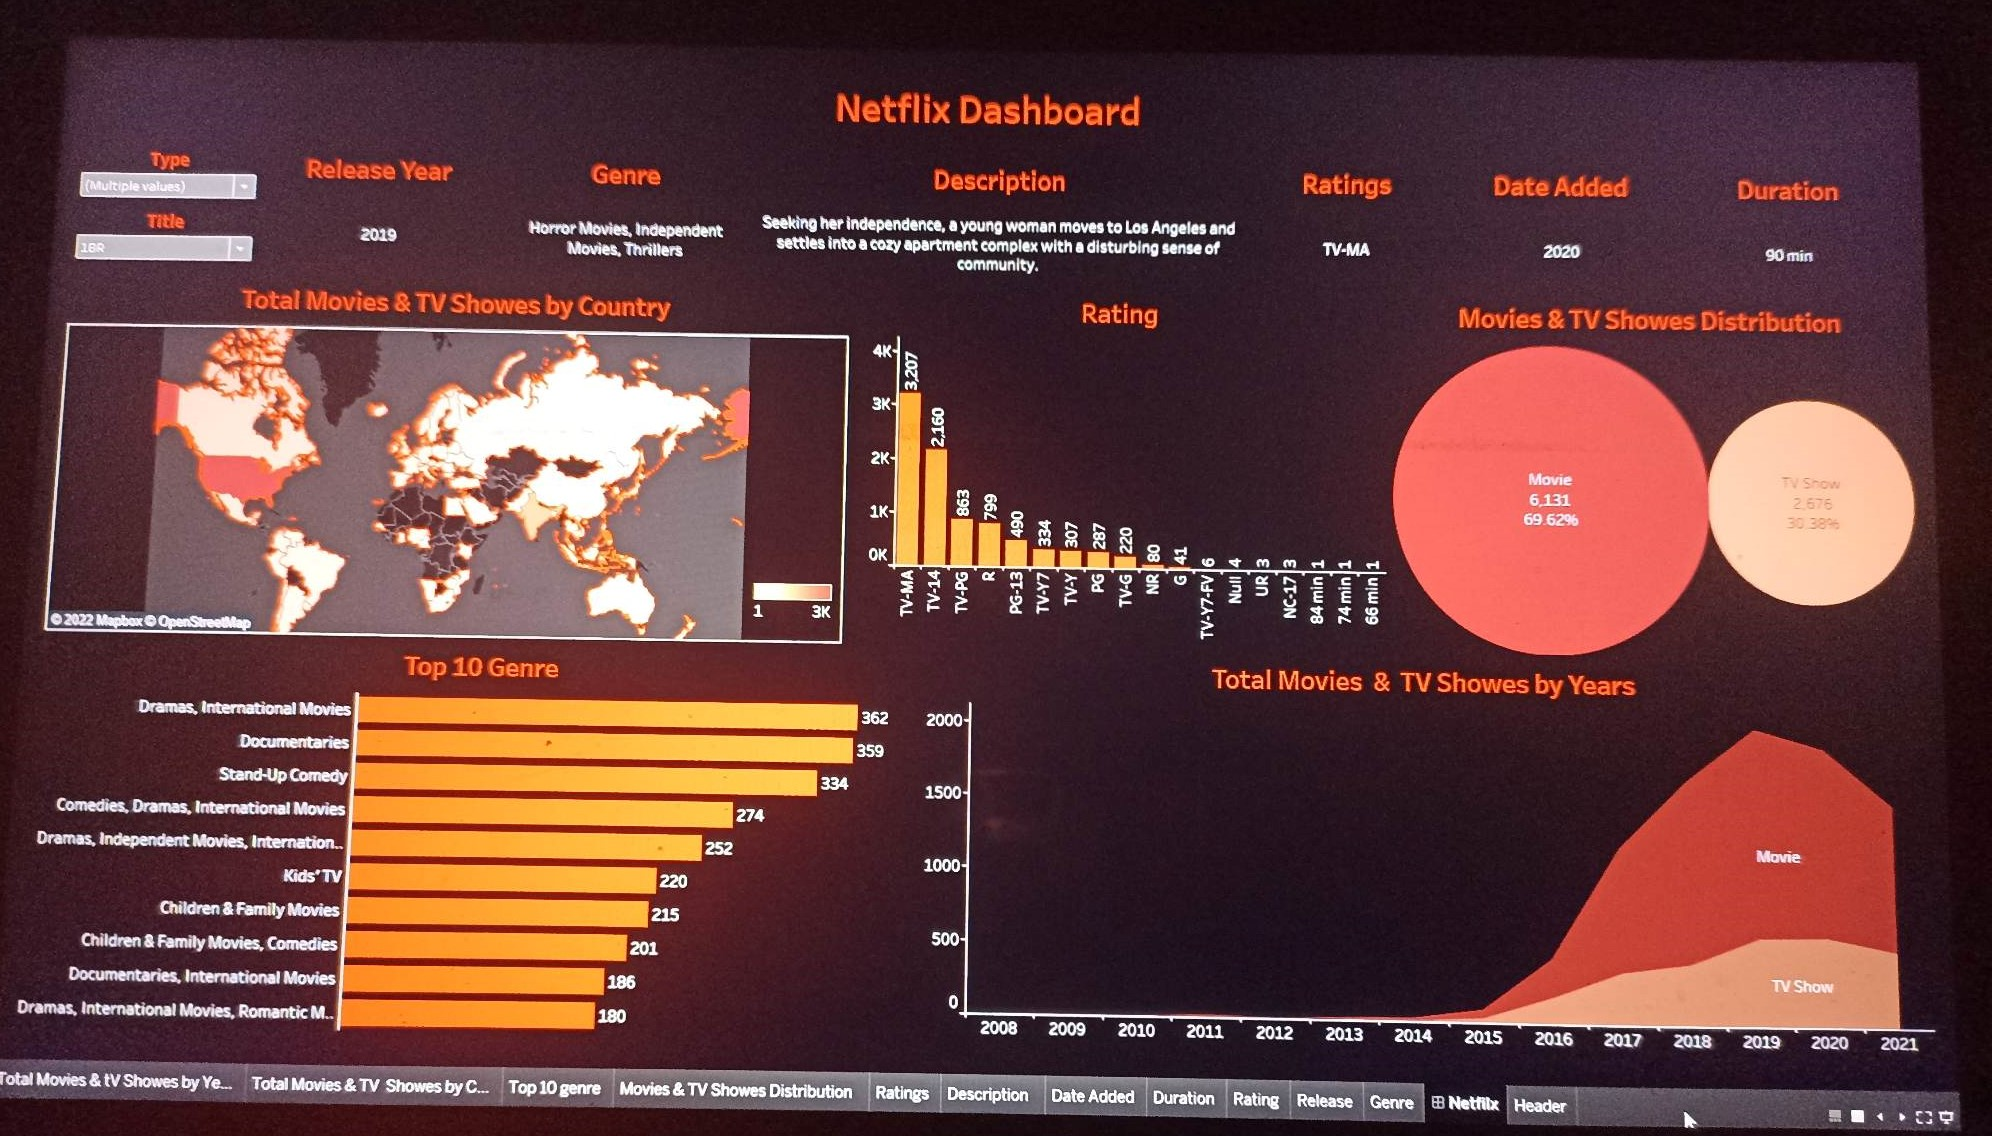

Layout of this report page (visuals, bound fields, positions):
{"tool":"tableau","page":{"name":"Netfilx","canvas":[1900,1000],"ordinal":0},"visuals":[{"type":"worksheet","title":"Header","mark":"Automatic","box":[8,8,1884,84]},{"type":"filter","title":"Description ","param":"[federated.1ttztgm1eil0i61eacpfc054e6tz].[none:type:nk]","box":[8,92,195.3,66]},{"type":"worksheet","title":"Release","mark":"Automatic","box":[203.3,92,246.1,139]},{"type":"worksheet","title":"Genre","mark":"Automatic","box":[449.4,92,261.9,139]},{"type":"worksheet","title":"Description ","mark":"Automatic","box":[711.3,92,503.7,139]},{"type":"worksheet","title":"Rating","mark":"Automatic","box":[1215,92,210.2,139]},{"type":"worksheet","title":"Date Added","mark":"Automatic","box":[1425.2,92,226,139]},{"type":"worksheet","title":"Duration","mark":"Automatic","box":[1651.2,92,240.8,139]},{"type":"filter","title":"Description ","param":"[federated.1ttztgm1eil0i61eacpfc054e6tz].[none:title:nk]","box":[8,158,195.3,73]},{"type":"worksheet","title":"Total Movies & TV  Showes by Country","mark":"Multipolygon","box":[8,231,806.8,373]},{"type":"worksheet","title":"Ratings","mark":"Automatic","rows":["show_id"],"cols":["rating"],"box":[814.8,231,546,373]},{"type":"worksheet","title":"Movies & TV Showes Distribution","mark":"Circle","box":[1360.8,231,531.2,373]},{"type":"legend","title":"Total Movies & TV  Showes by Country","param":"[federated.1ttztgm1eil0i61eacpfc054e6tz].[ctd:show_id:qk]","box":[718,537,86,54]},{"type":"worksheet","title":"Top 10 genre","mark":"Automatic","rows":["listed_in"],"cols":["show_id"],"box":[8,604,886,388]},{"type":"worksheet","title":"Total Movies & tV Showes by Years ","mark":"Area","rows":["show_id"],"cols":["date_added"],"box":[894,604,998,388]}]}

Visuals, with their boxes on the page's 1900x1000 design canvas (x1, y1, x2, y2). These are canvas units, not pixel positions in the 1992x1136 screenshot, which may show the page scaled, cropped or inside an application window:
"Header" worksheet: [left=8, top=8, right=1892, bottom=92]
"Description " filter: [left=8, top=92, right=203, bottom=158]
"Release" worksheet: [left=203, top=92, right=449, bottom=231]
"Genre" worksheet: [left=449, top=92, right=711, bottom=231]
"Description " worksheet: [left=711, top=92, right=1215, bottom=231]
"Rating" worksheet: [left=1215, top=92, right=1425, bottom=231]
"Date Added" worksheet: [left=1425, top=92, right=1651, bottom=231]
"Duration" worksheet: [left=1651, top=92, right=1892, bottom=231]
"Description " filter: [left=8, top=158, right=203, bottom=231]
"Total Movies & TV  Showes by Country" worksheet (Multipolygon marks): [left=8, top=231, right=815, bottom=604]
"Ratings" worksheet: [left=815, top=231, right=1361, bottom=604]
"Movies & TV Showes Distribution" worksheet (Circle marks): [left=1361, top=231, right=1892, bottom=604]
"Total Movies & TV  Showes by Country" legend: [left=718, top=537, right=804, bottom=591]
"Top 10 genre" worksheet: [left=8, top=604, right=894, bottom=992]
"Total Movies & tV Showes by Years " worksheet (Area marks): [left=894, top=604, right=1892, bottom=992]
